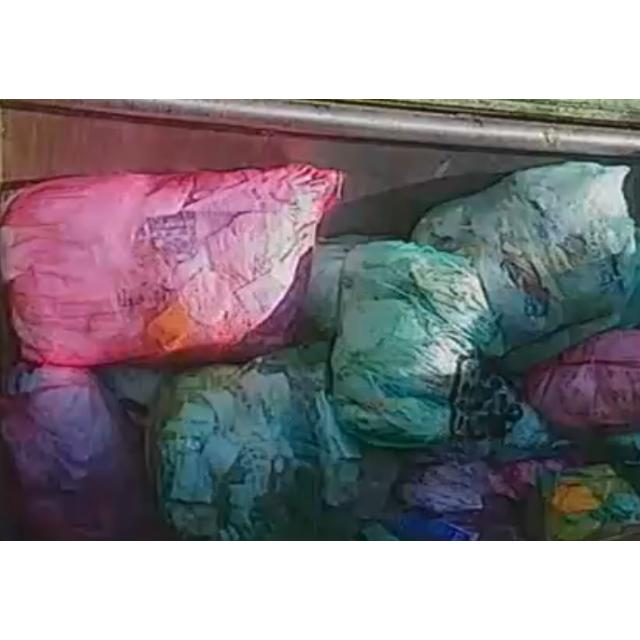general_trashbag: (411, 163, 639, 351), (161, 343, 361, 541), (331, 243, 522, 447)
other_trashbag: (0, 165, 342, 366), (0, 366, 175, 541), (526, 330, 640, 433)
